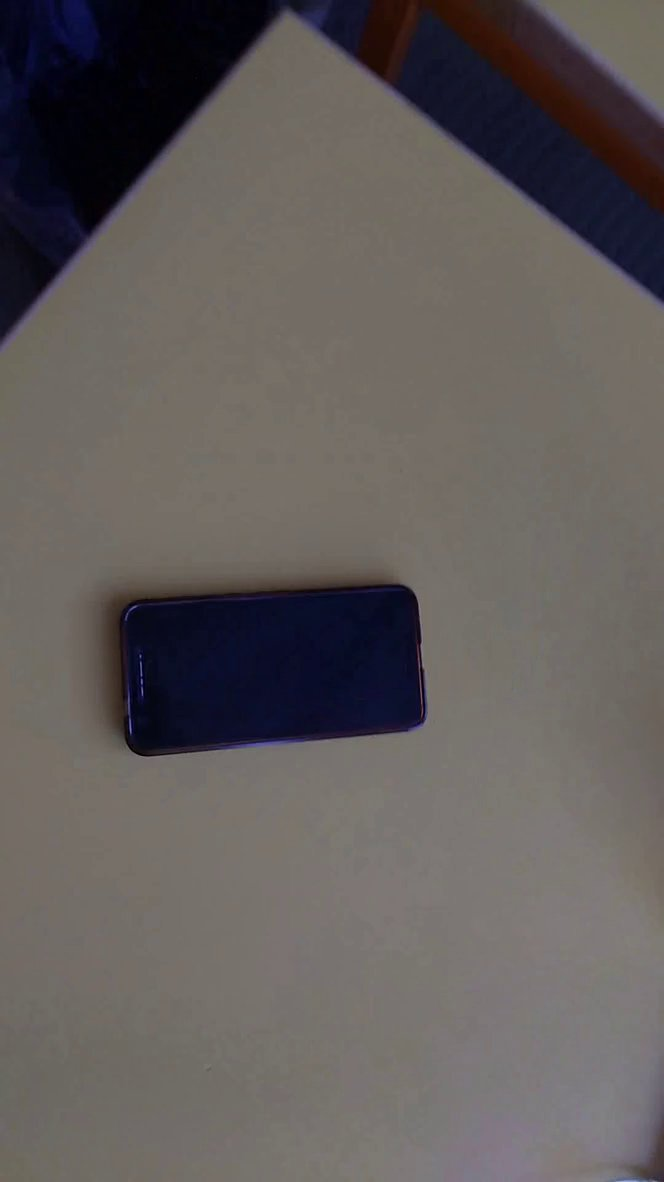phone: (101, 566, 446, 778)
